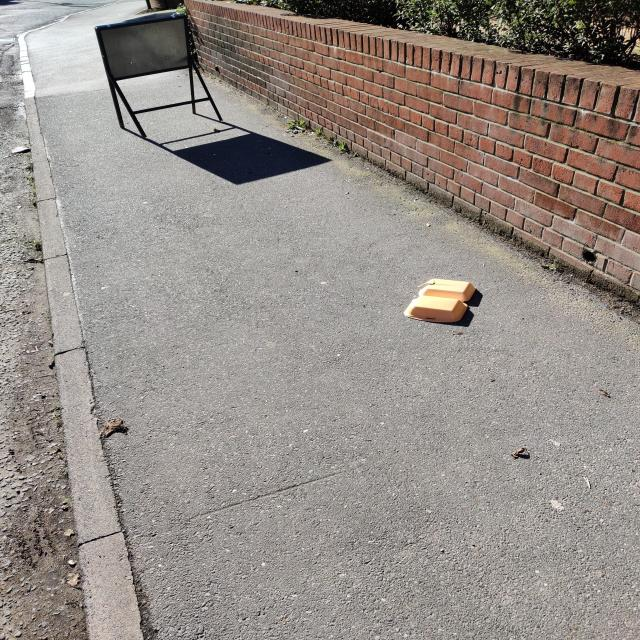litter: (404, 279, 477, 322)
